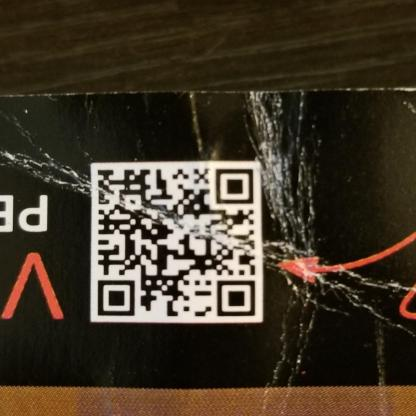qr: (92, 163, 259, 317)
